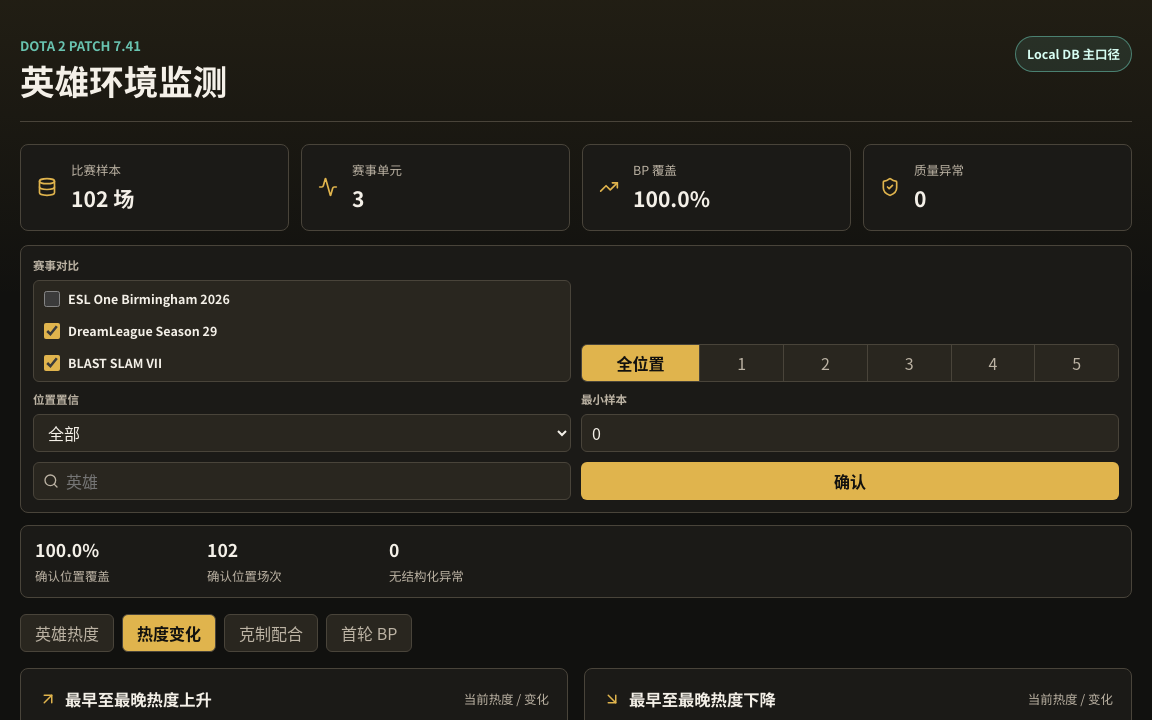
shows first-phase ban and pick heat movement without lane relations
This screenshot has width=1152, height=720.
Click the button "首轮 BP". click: click(369, 633)
box: [326,614,412,652]
(page scrolled)
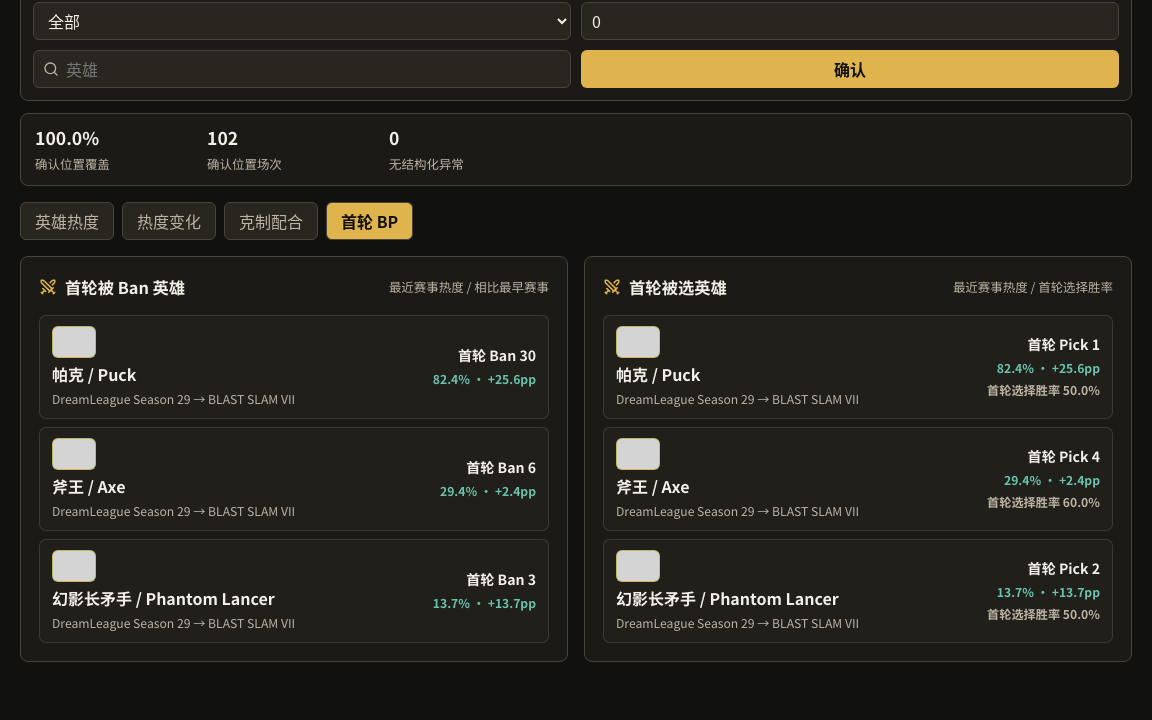
Now the text "首轮被 Ban 英雄" is shown, box [65,275,185,299]
Now the text "帕克 / Puck" in the row of "首轮 Ban 30" is shown, box [52,362,136,386]
Now the text "首轮 Ban 30" is shown, box [458,346,536,366]
